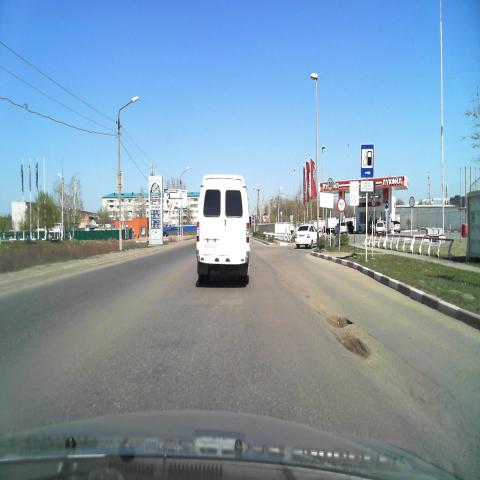3_13: (337, 197, 345, 213)
